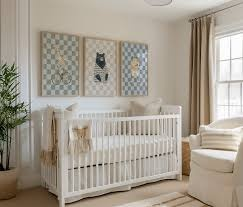crib: (41, 106, 181, 206)
